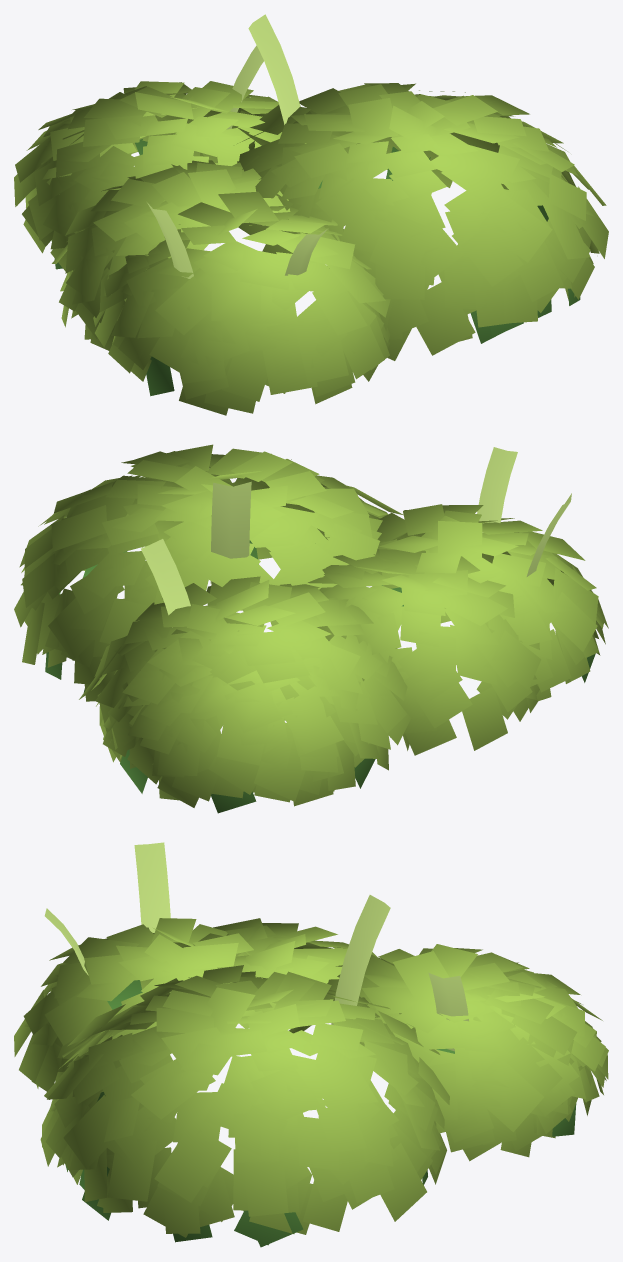
Rendered from plant_groundcover_3.glb.
3 renders of one model, top to bottom at view 1: azimuth 30°, elevation 25°; view 2: azimuth 150°, elevation 25°; view 3: azimuth 270°, elevation 25°, orthographic.
Parts seen in each view (by area): view 1: plant_groundcover_3; view 2: plant_groundcover_3; view 3: plant_groundcover_3.
Boxes of the visible parts, x1,y1,x2,y2 form: plant_groundcover_3: [14, 14, 608, 415]; plant_groundcover_3: [14, 444, 608, 813]; plant_groundcover_3: [14, 842, 608, 1247].
Size of the model in its own units: 1.49 by 0.6685 by 1.52.
